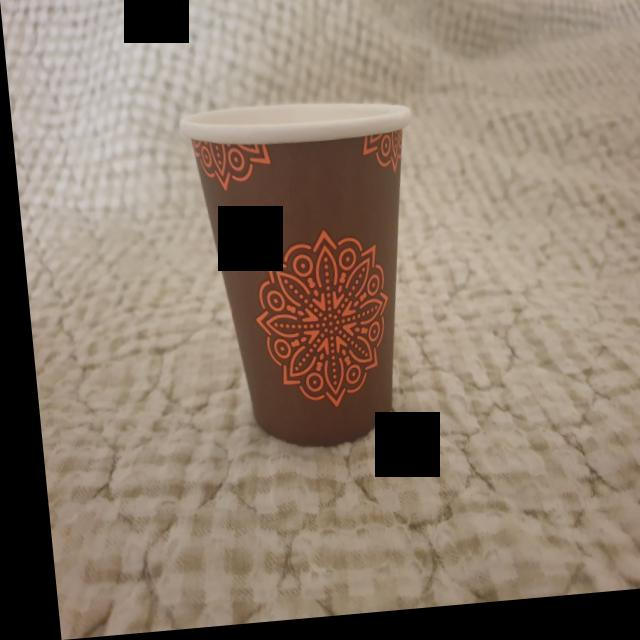cups: (174, 90, 438, 461)
